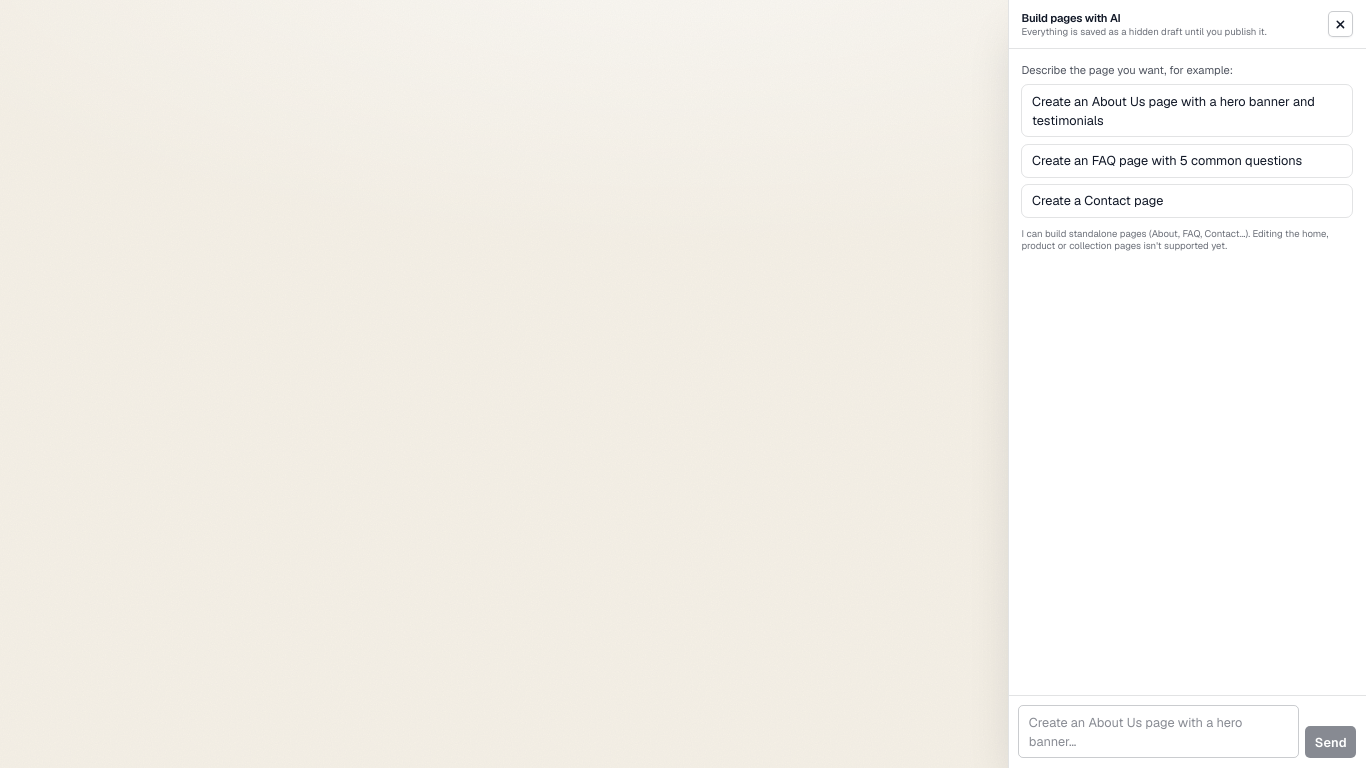
it: AiPageBuilderPanel › keeps the conversation id for follow-ups
The width and height of the screenshot is (1366, 768).
Later steps or results of the test are not shown.
Type "one" into the text box named "Your request".
click(1158, 732); type("one")  # box [1018,705,1299,758]
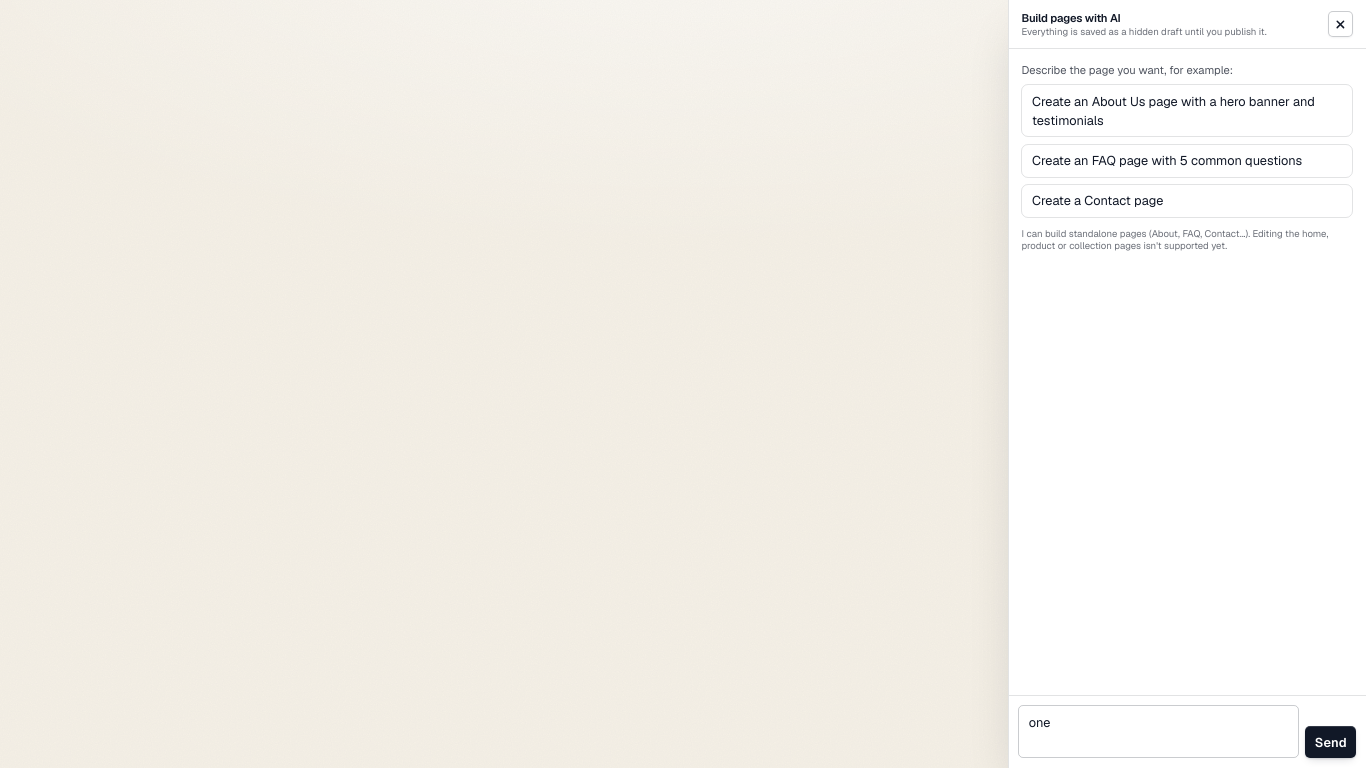
Click the button "Send".
click(1331, 742)  # box [1305,726,1356,758]
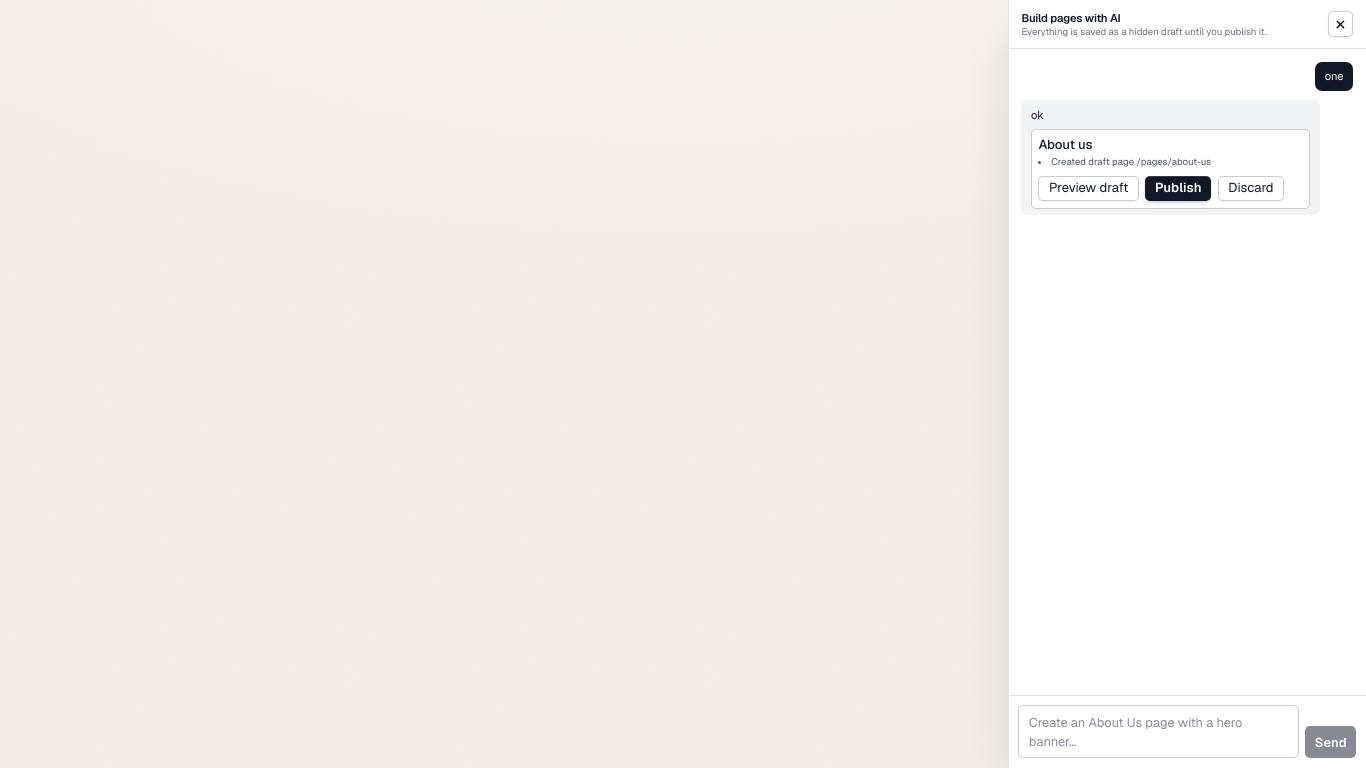
Expected: the text "ok" is shown, [1031,108,1044,122]
